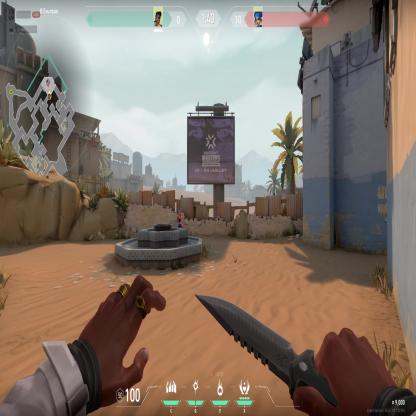enemy: (176, 207, 183, 227)
